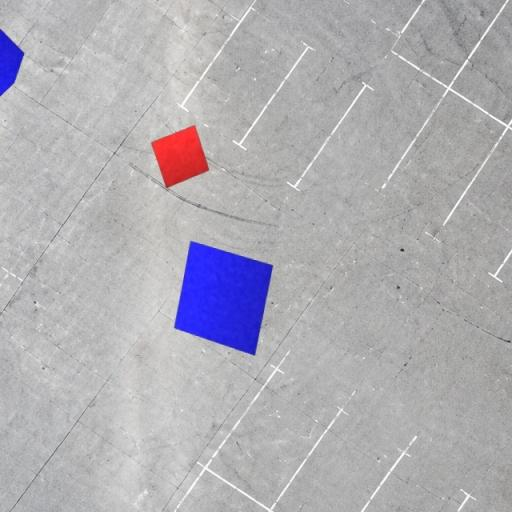BLUE_SQUARE: (174, 240, 274, 356)
RED_SQUARE: (150, 125, 210, 189)
